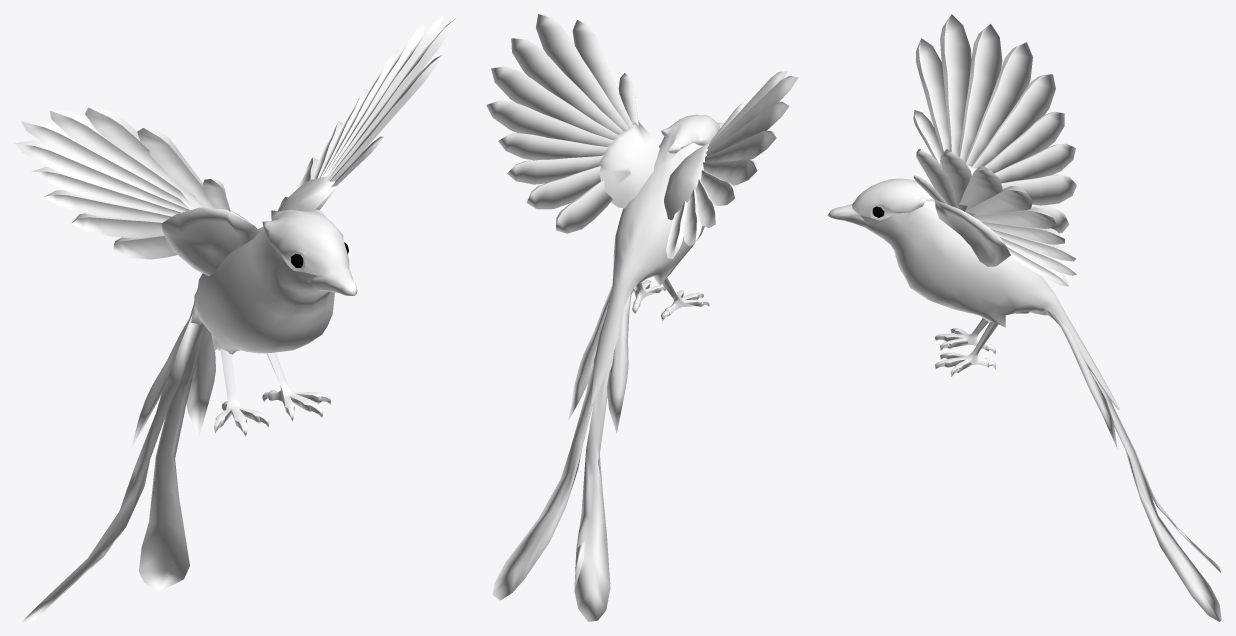
The model's file is bird2.glb.
The picture shows the model from 3 angles, left to right: view 1: azimuth 30°, elevation 25°; view 2: azimuth 150°, elevation 25°; view 3: azimuth 270°, elevation 25°; orthographic projection. The views are drawn at different scales.
Visible parts, largest first — view 1: Birds; view 2: Birds; view 3: Birds.
Boxes of the visible parts, left/top/right/bottom form: Birds: left=14, top=14, right=457, bottom=621; Birds: left=486, top=14, right=798, bottom=621; Birds: left=827, top=14, right=1221, bottom=621.
Size of the model in its own units: 3.13 by 4.97 by 3.45.
10 materials, 1 textured.
